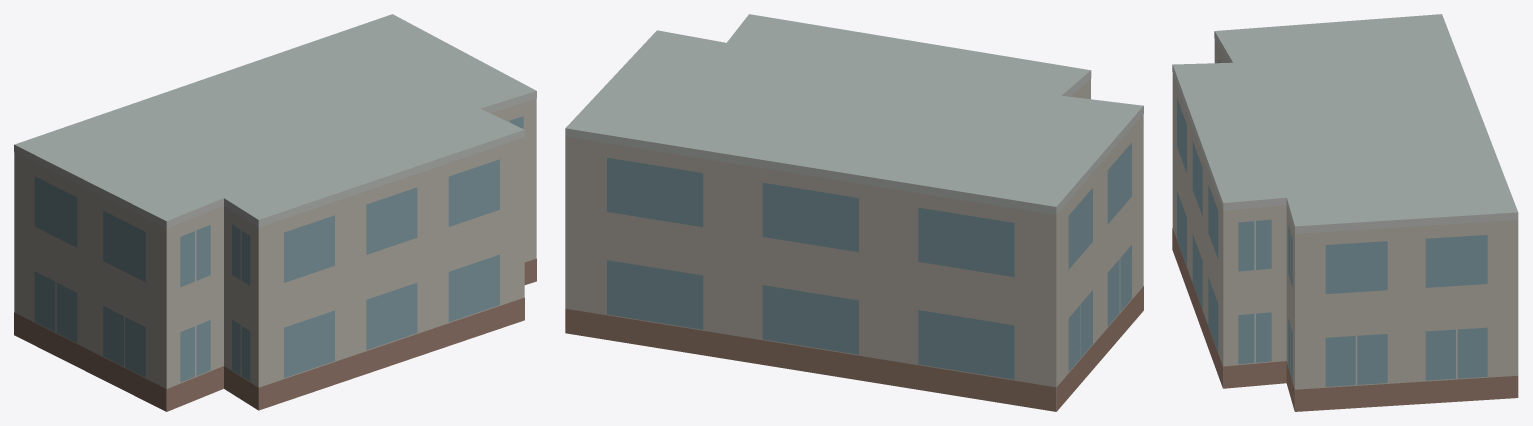
File: survey-upis-32734805.glb
3 renders of one model, left to right at view 1: azimuth 30°, elevation 25°; view 2: azimuth 150°, elevation 25°; view 3: azimuth 270°, elevation 25°, orthographic. The views are drawn at different scales.
Visible parts, largest first — view 1: survey-upis-32734805.tmp; view 2: survey-upis-32734805.tmp; view 3: survey-upis-32734805.tmp.
Boxes of the visible parts, box(x1,y1,x2,y2) form: survey-upis-32734805.tmp: box(14, 14, 536, 411); survey-upis-32734805.tmp: box(565, 14, 1143, 411); survey-upis-32734805.tmp: box(1172, 14, 1518, 411).
Size of the model in its own units: 14.99 by 6.1 by 10.32.
